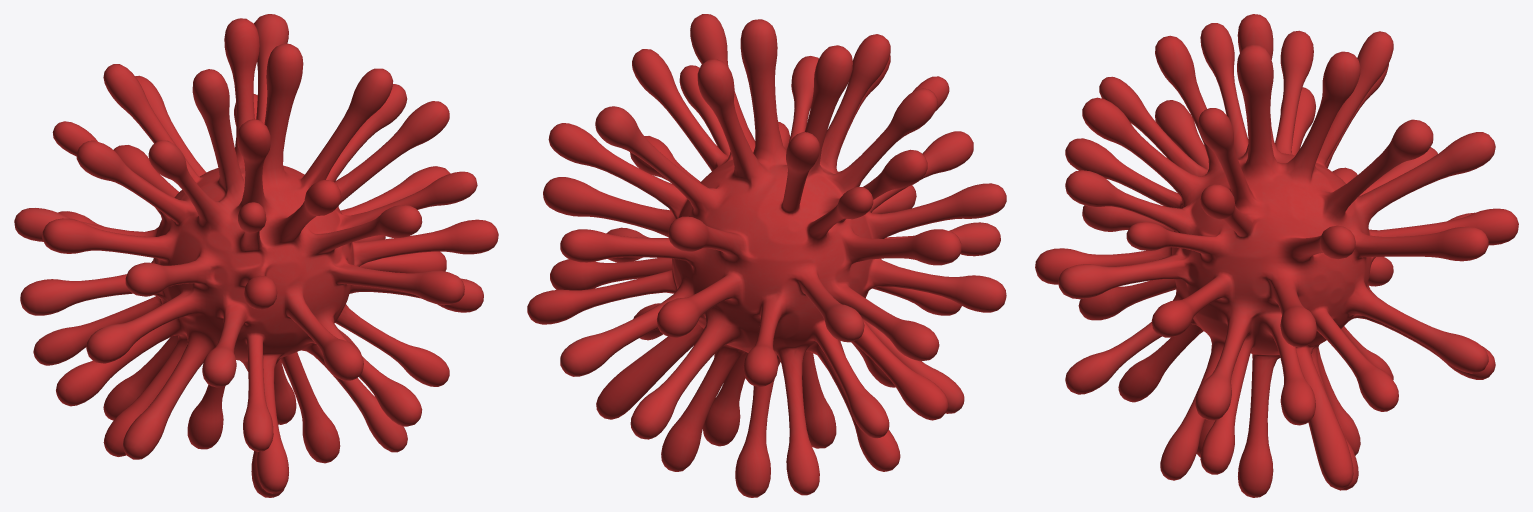
File: viruss.glb
3 renders of one model, left to right at view 1: azimuth 30°, elevation 25°; view 2: azimuth 150°, elevation 25°; view 3: azimuth 270°, elevation 25°, orthographic.
Visible parts, largest first — view 1: Corona VIrus; view 2: Corona VIrus; view 3: Corona VIrus.
Boxes of the visible parts, bbox=[...] form: Corona VIrus: bbox=[14, 14, 498, 497]; Corona VIrus: bbox=[527, 14, 1006, 497]; Corona VIrus: bbox=[1035, 14, 1518, 497].
Bounding box in the file's own units: 3.98 × 3.98 × 4.04.
Materials: 2 (2 with a texture image).
